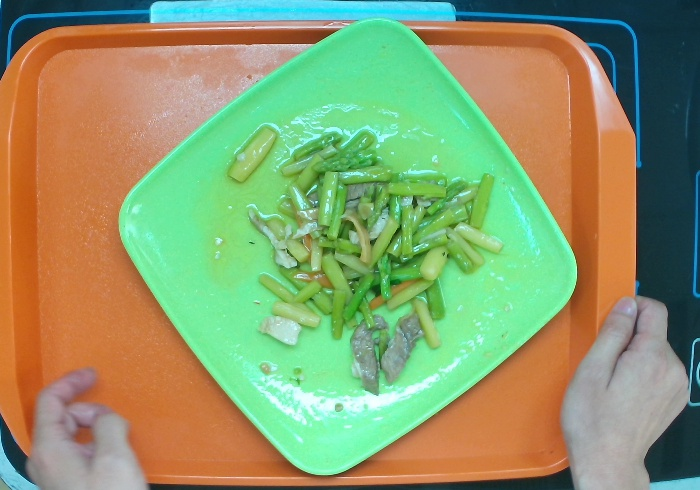ZNLD-Lv_Fang_Pan: (114, 15, 579, 477)
